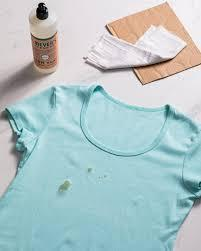mustard: (57, 177, 73, 194), (85, 163, 96, 172), (96, 175, 109, 181)
